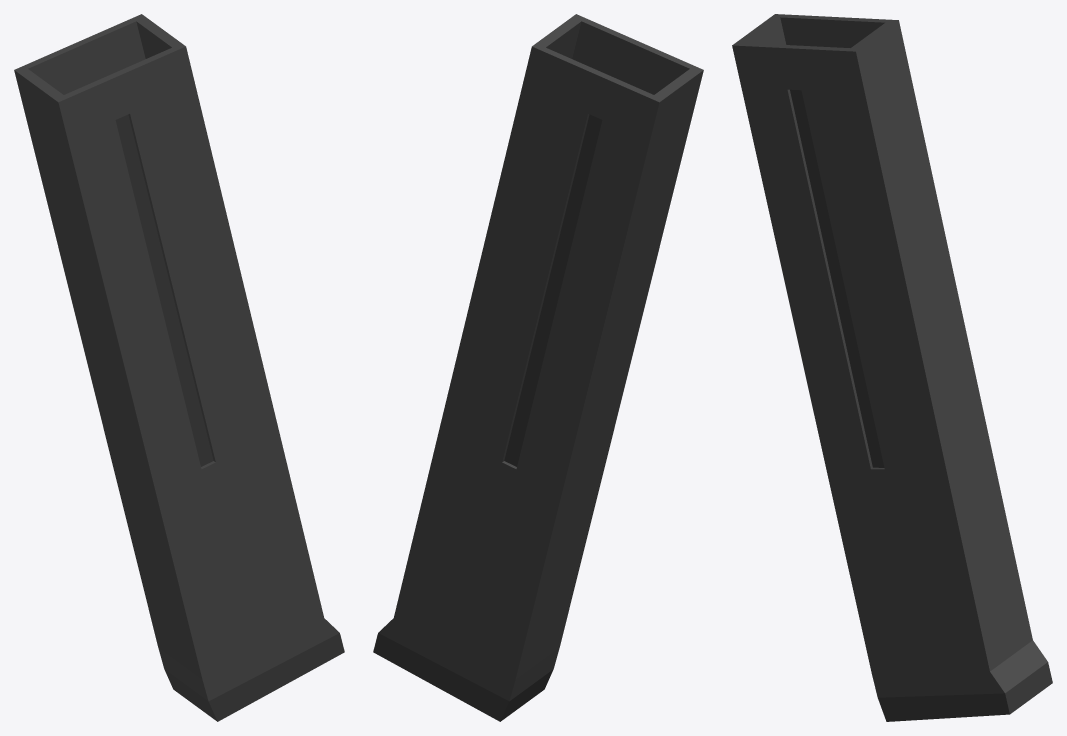
Rendered from SMG6_01_2.fbx.
The picture shows the model from 3 angles, left to right: view 1: azimuth 30°, elevation 25°; view 2: azimuth 150°, elevation 25°; view 3: azimuth 330°, elevation 25°; orthographic projection. The views are drawn at different scales.
Parts seen in each view (by area): view 1: SMG6_01_2; view 2: SMG6_01_2; view 3: SMG6_01_2.
Part boxes in pixels (<box>): SMG6_01_2: <box>14,14,344,721</box>; SMG6_01_2: <box>373,14,703,721</box>; SMG6_01_2: <box>732,14,1052,721</box>.
Size of the model in its own units: 0.0924 by 0.2105 by 0.0248.
